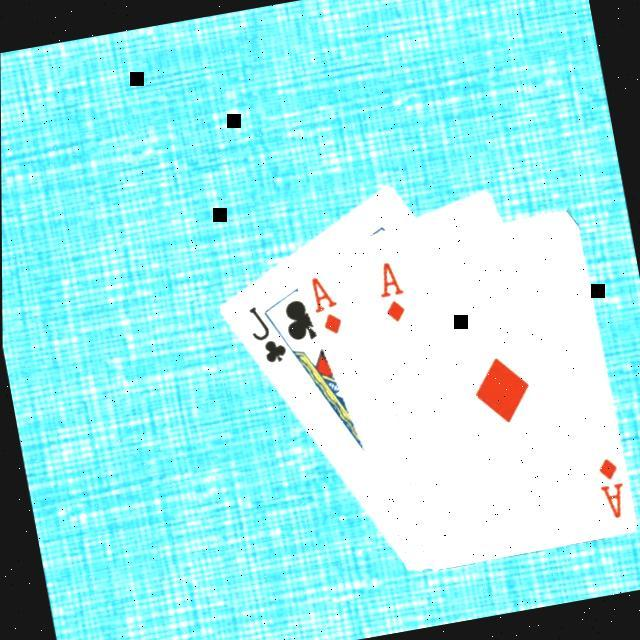AD: (304, 267, 347, 338), (371, 254, 412, 324), (591, 450, 630, 521)
JC: (242, 295, 291, 367)
